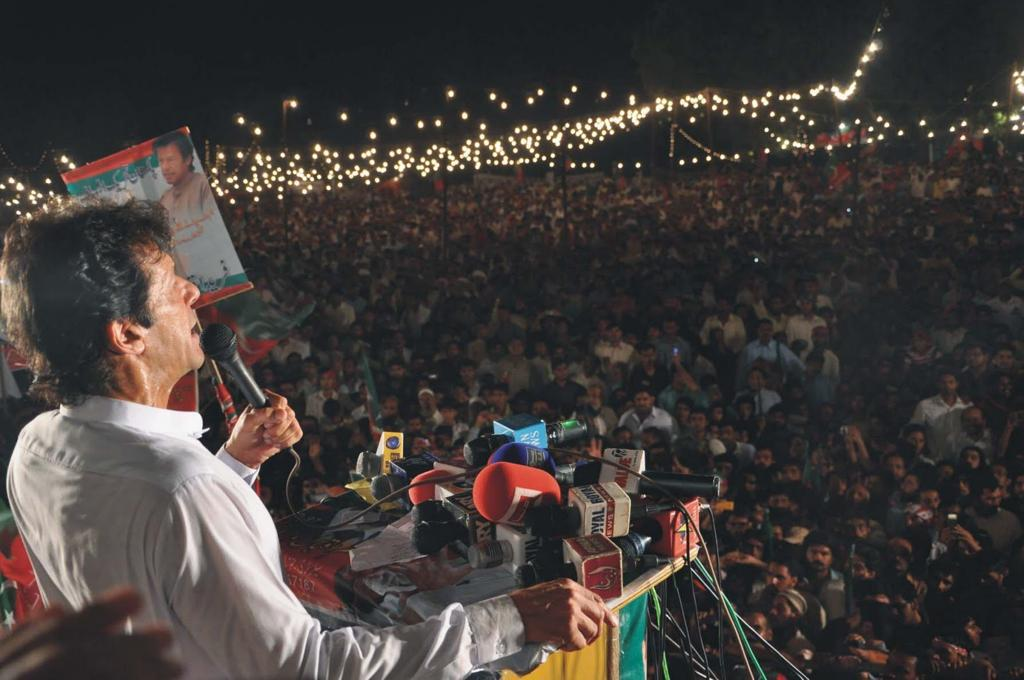face: (112, 251, 205, 362), (737, 620, 767, 653), (159, 153, 185, 183), (806, 545, 832, 574), (767, 568, 791, 598), (932, 647, 957, 675), (887, 543, 910, 572), (769, 600, 790, 629), (889, 597, 911, 624), (885, 661, 916, 680), (853, 560, 872, 590), (933, 573, 953, 601), (845, 521, 867, 545), (743, 541, 764, 566), (958, 543, 980, 566), (964, 618, 982, 646), (847, 610, 865, 638), (726, 519, 749, 540), (672, 459, 693, 481), (979, 573, 1001, 594), (982, 491, 1001, 514), (779, 467, 800, 487), (847, 488, 866, 510), (763, 531, 782, 553), (906, 434, 925, 455), (922, 494, 940, 516), (738, 479, 757, 499), (963, 414, 983, 433), (559, 441, 577, 462), (715, 464, 733, 484), (412, 442, 429, 463), (886, 462, 905, 480), (634, 394, 652, 413), (532, 405, 550, 424), (940, 378, 958, 397), (304, 481, 322, 500), (830, 477, 848, 495), (615, 435, 632, 454), (754, 454, 772, 471), (642, 437, 659, 455), (998, 380, 1015, 398), (866, 478, 883, 496), (885, 389, 901, 408), (788, 441, 805, 458), (770, 498, 788, 514), (962, 452, 978, 470), (690, 414, 706, 432), (956, 478, 972, 496), (707, 386, 722, 404), (989, 469, 1005, 485), (967, 351, 983, 367), (998, 353, 1013, 370), (414, 383, 429, 400), (937, 470, 953, 485), (738, 406, 753, 422), (676, 405, 691, 421), (455, 445, 470, 461), (437, 437, 452, 452), (588, 387, 603, 402), (902, 477, 918, 491), (750, 374, 764, 390), (488, 344, 502, 360), (302, 422, 315, 439), (454, 388, 467, 405), (616, 392, 629, 409), (771, 413, 785, 428), (720, 430, 734, 445), (441, 406, 455, 421), (807, 362, 821, 377), (817, 408, 832, 422), (480, 392, 494, 407), (912, 337, 925, 353), (1015, 478, 1024, 501), (543, 322, 555, 339), (419, 396, 433, 410), (320, 375, 334, 389), (492, 391, 505, 406), (461, 367, 474, 382), (280, 387, 293, 402), (868, 420, 881, 435), (828, 435, 841, 450), (677, 368, 689, 384), (509, 342, 523, 355), (409, 421, 422, 435), (555, 365, 568, 379), (608, 327, 621, 341), (760, 327, 773, 341), (642, 352, 655, 366), (801, 300, 813, 315), (583, 363, 595, 378), (557, 323, 569, 338), (517, 398, 528, 414), (852, 398, 865, 411), (711, 408, 723, 422), (385, 404, 397, 418), (814, 333, 826, 347), (770, 301, 782, 315), (664, 325, 676, 339), (999, 284, 1011, 298), (361, 389, 372, 404), (406, 297, 417, 312), (977, 311, 988, 326), (599, 322, 610, 337), (787, 390, 803, 400), (303, 364, 315, 377), (326, 337, 338, 350), (879, 363, 892, 375), (289, 359, 301, 372), (288, 330, 299, 344), (718, 302, 729, 315), (797, 285, 808, 298), (497, 307, 508, 320), (472, 347, 483, 360), (614, 369, 625, 382), (457, 285, 467, 299), (332, 409, 342, 423), (805, 282, 816, 294), (392, 367, 403, 379), (414, 361, 426, 372), (392, 336, 403, 348), (264, 371, 275, 383), (257, 354, 268, 366), (736, 310, 747, 322), (554, 351, 565, 363), (475, 325, 485, 338), (571, 347, 581, 360), (536, 344, 547, 355), (821, 314, 832, 325), (756, 416, 766, 428), (960, 291, 969, 304), (448, 346, 458, 357), (343, 363, 352, 375), (351, 328, 361, 338), (331, 295, 341, 305), (364, 312, 373, 323), (713, 334, 722, 344), (474, 277, 483, 287), (352, 288, 360, 297), (362, 280, 370, 288)
